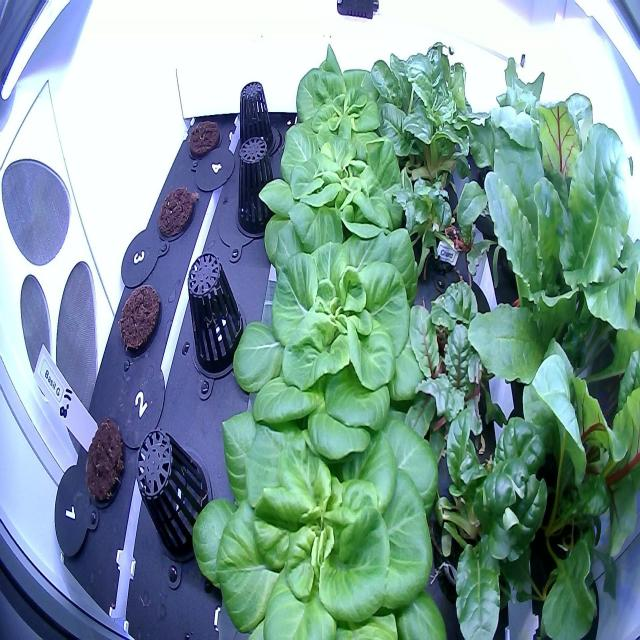empty_pod: (134, 419, 214, 566), (183, 248, 249, 391), (226, 142, 284, 246), (232, 76, 283, 162)
pod: (79, 413, 132, 516), (114, 276, 166, 371), (153, 179, 199, 250), (182, 108, 226, 167)
young: (187, 363, 459, 640), (225, 218, 458, 470), (254, 107, 421, 280), (277, 35, 409, 163)
